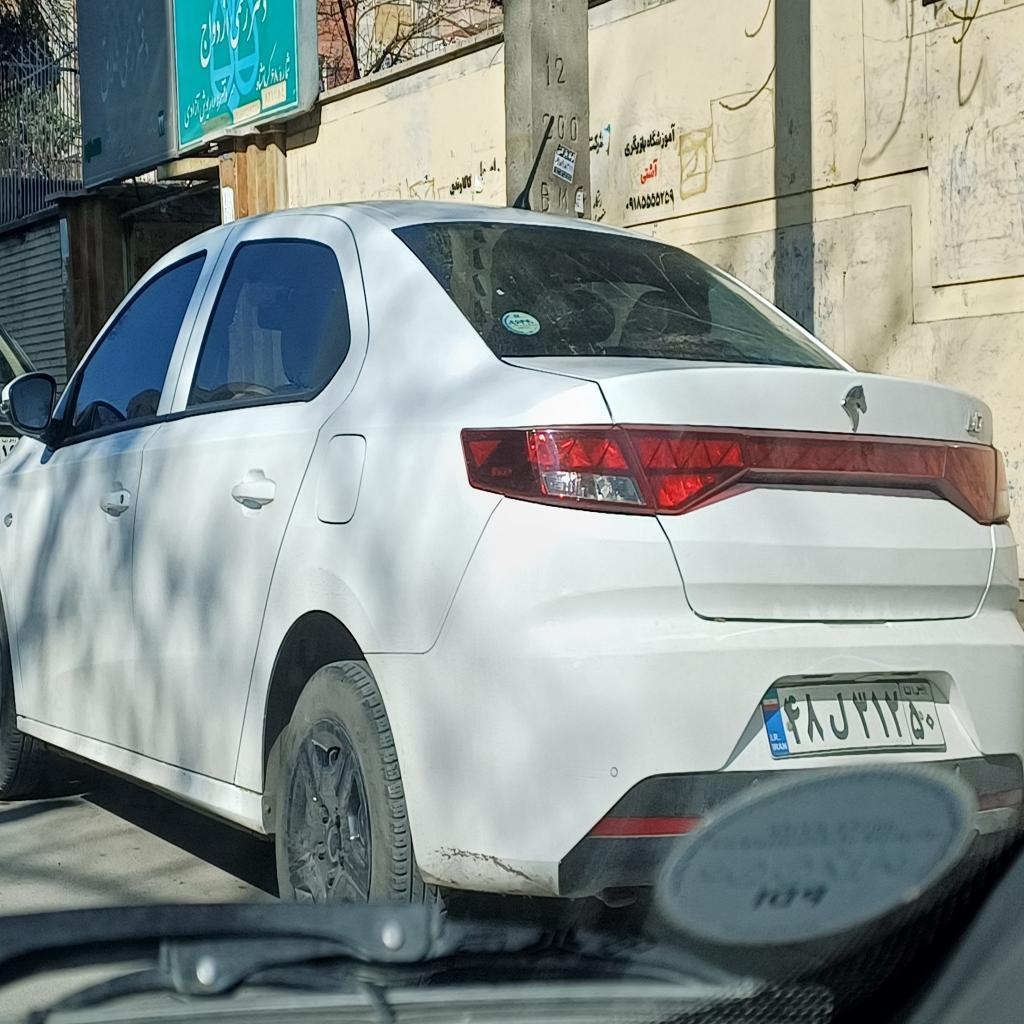Plates: (756, 680, 946, 758)
